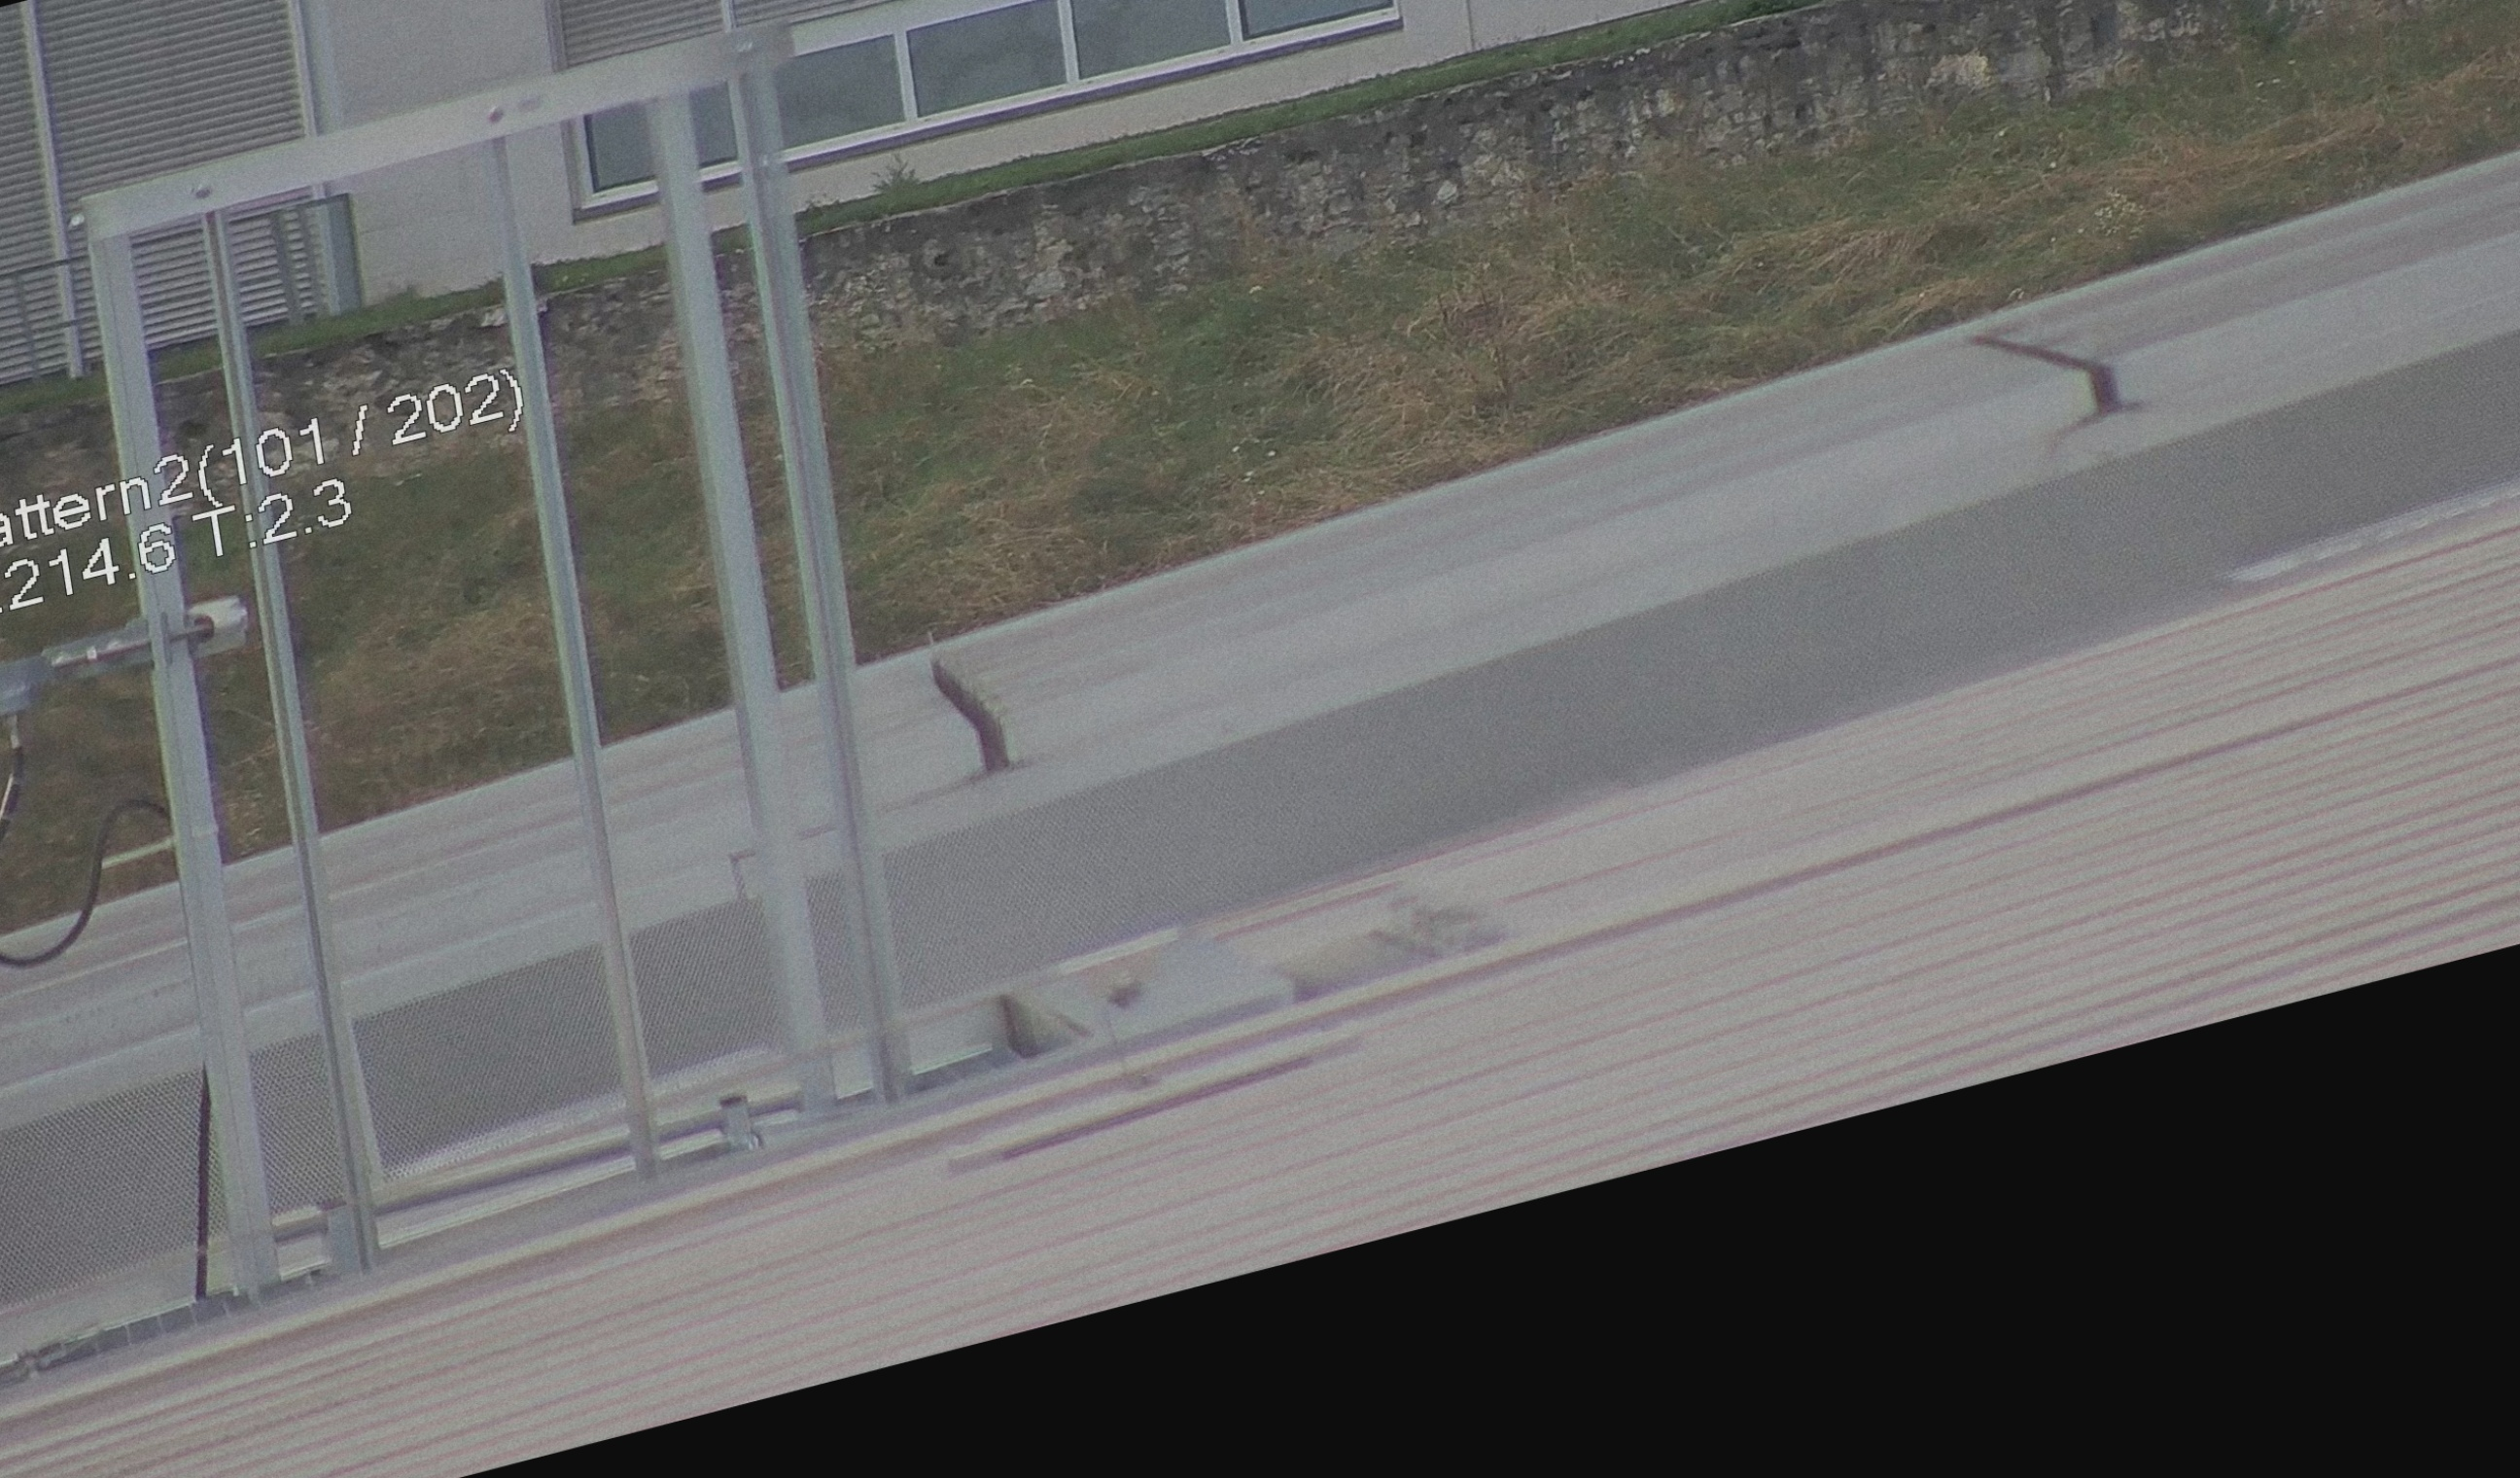Other: (904, 616, 1032, 806)
